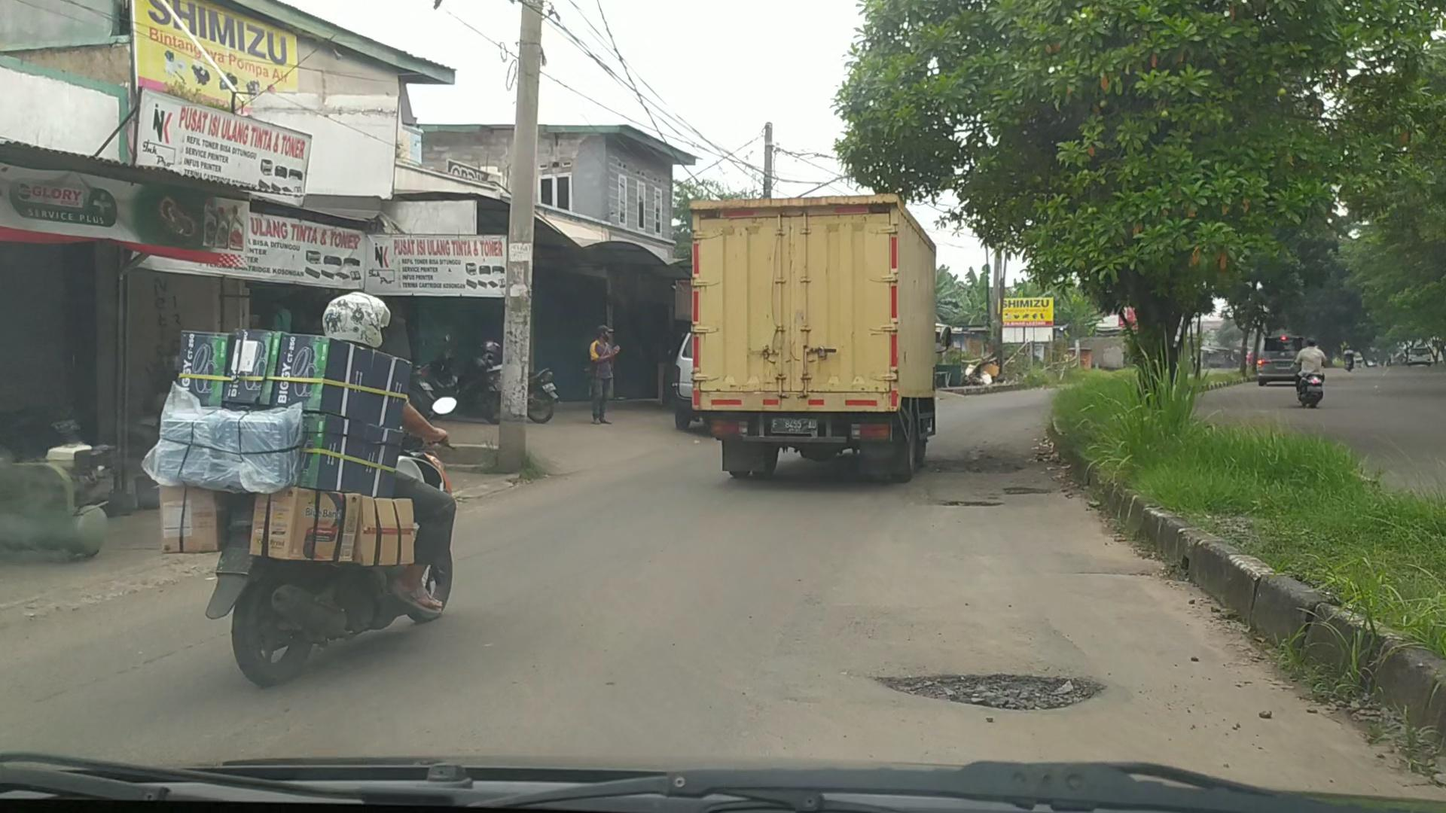pothole: (875, 670, 1108, 717), (923, 453, 1023, 474), (942, 497, 1005, 508), (1001, 485, 1054, 497)
